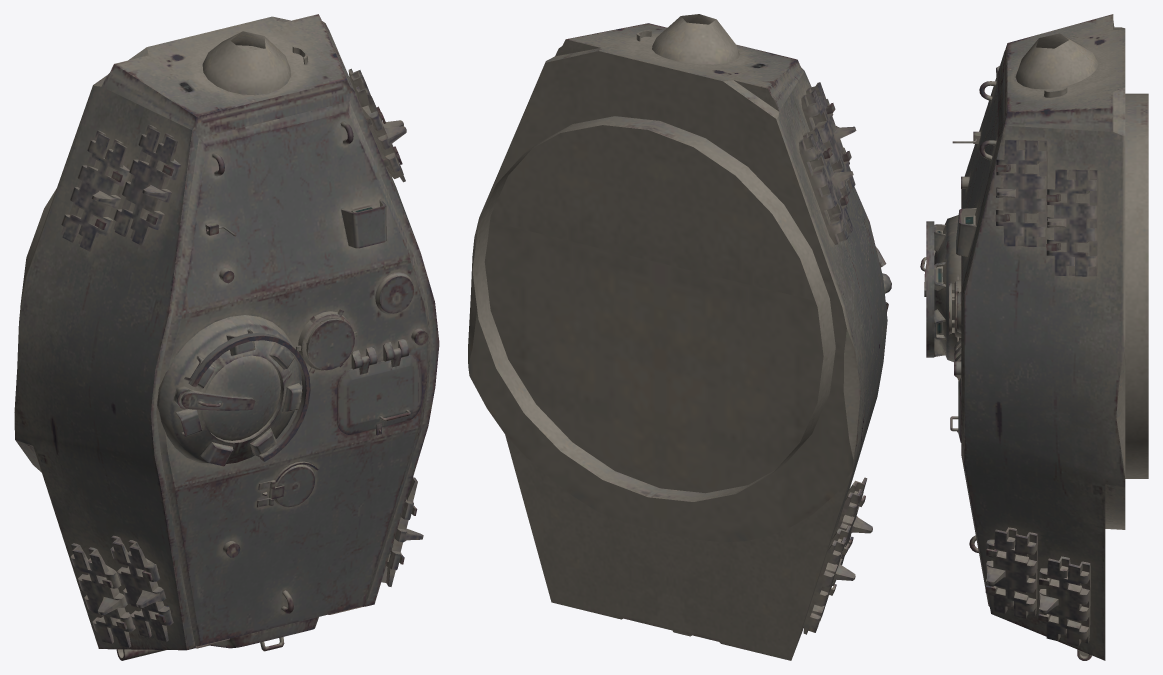
File: Turret_02.glb
3 renders of one model, left to right at view 1: azimuth 30°, elevation 25°; view 2: azimuth 150°, elevation 25°; view 3: azimuth 270°, elevation 25°, orthographic. The views are drawn at different scales.
Visible parts, largest first — view 1: set_0_group_0; view 2: set_0_group_0; view 3: set_0_group_0.
Part boxes in pixels (x1,y1,x2,y2): set_0_group_0: [14, 14, 439, 660]; set_0_group_0: [468, 14, 891, 660]; set_0_group_0: [920, 14, 1148, 660].
Size of the model in its own units: 2.57 by 3.81 by 1.37.
1 material, 1 textured.
